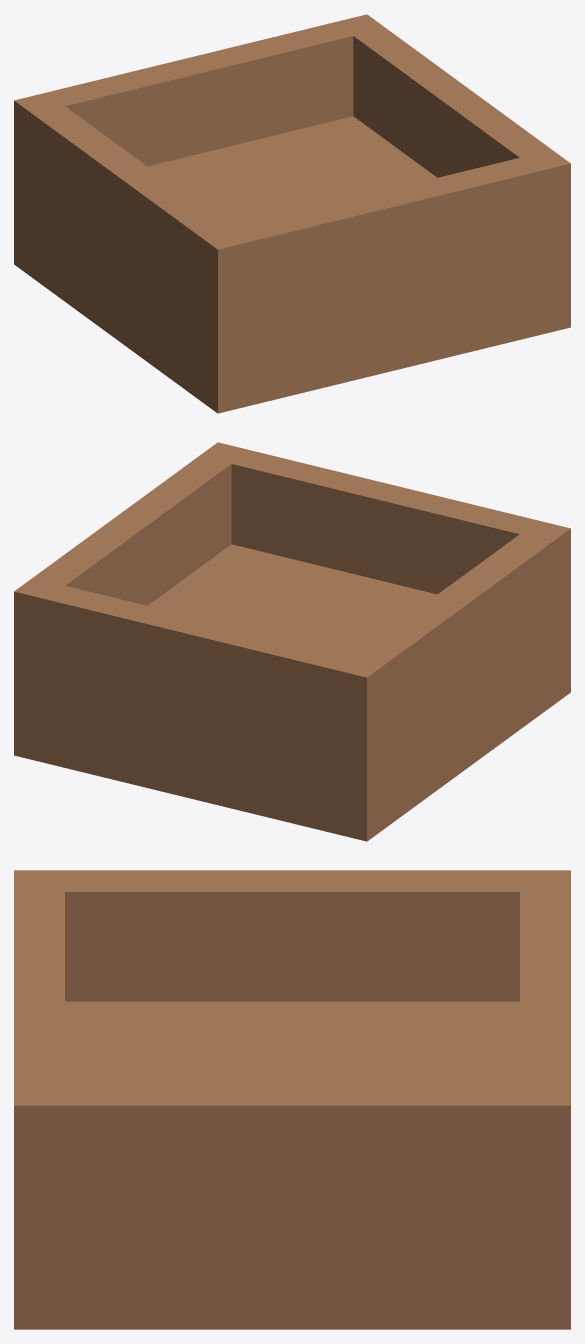
Rendered from bowl3d.gltf.
3 renders of one model, top to bottom at view 1: azimuth 30°, elevation 25°; view 2: azimuth 150°, elevation 25°; view 3: azimuth 270°, elevation 25°, orthographic. The views are drawn at different scales.
Visible parts, largest first — view 1: Cube; view 2: Cube; view 3: Cube.
Part boxes in pixels (x1,y1,x2,y2): Cube: (14,14,570,413); Cube: (14,442,570,841); Cube: (14,870,570,1329).
Bounding box in the file's own units: 2 × 0.8874 × 2.
